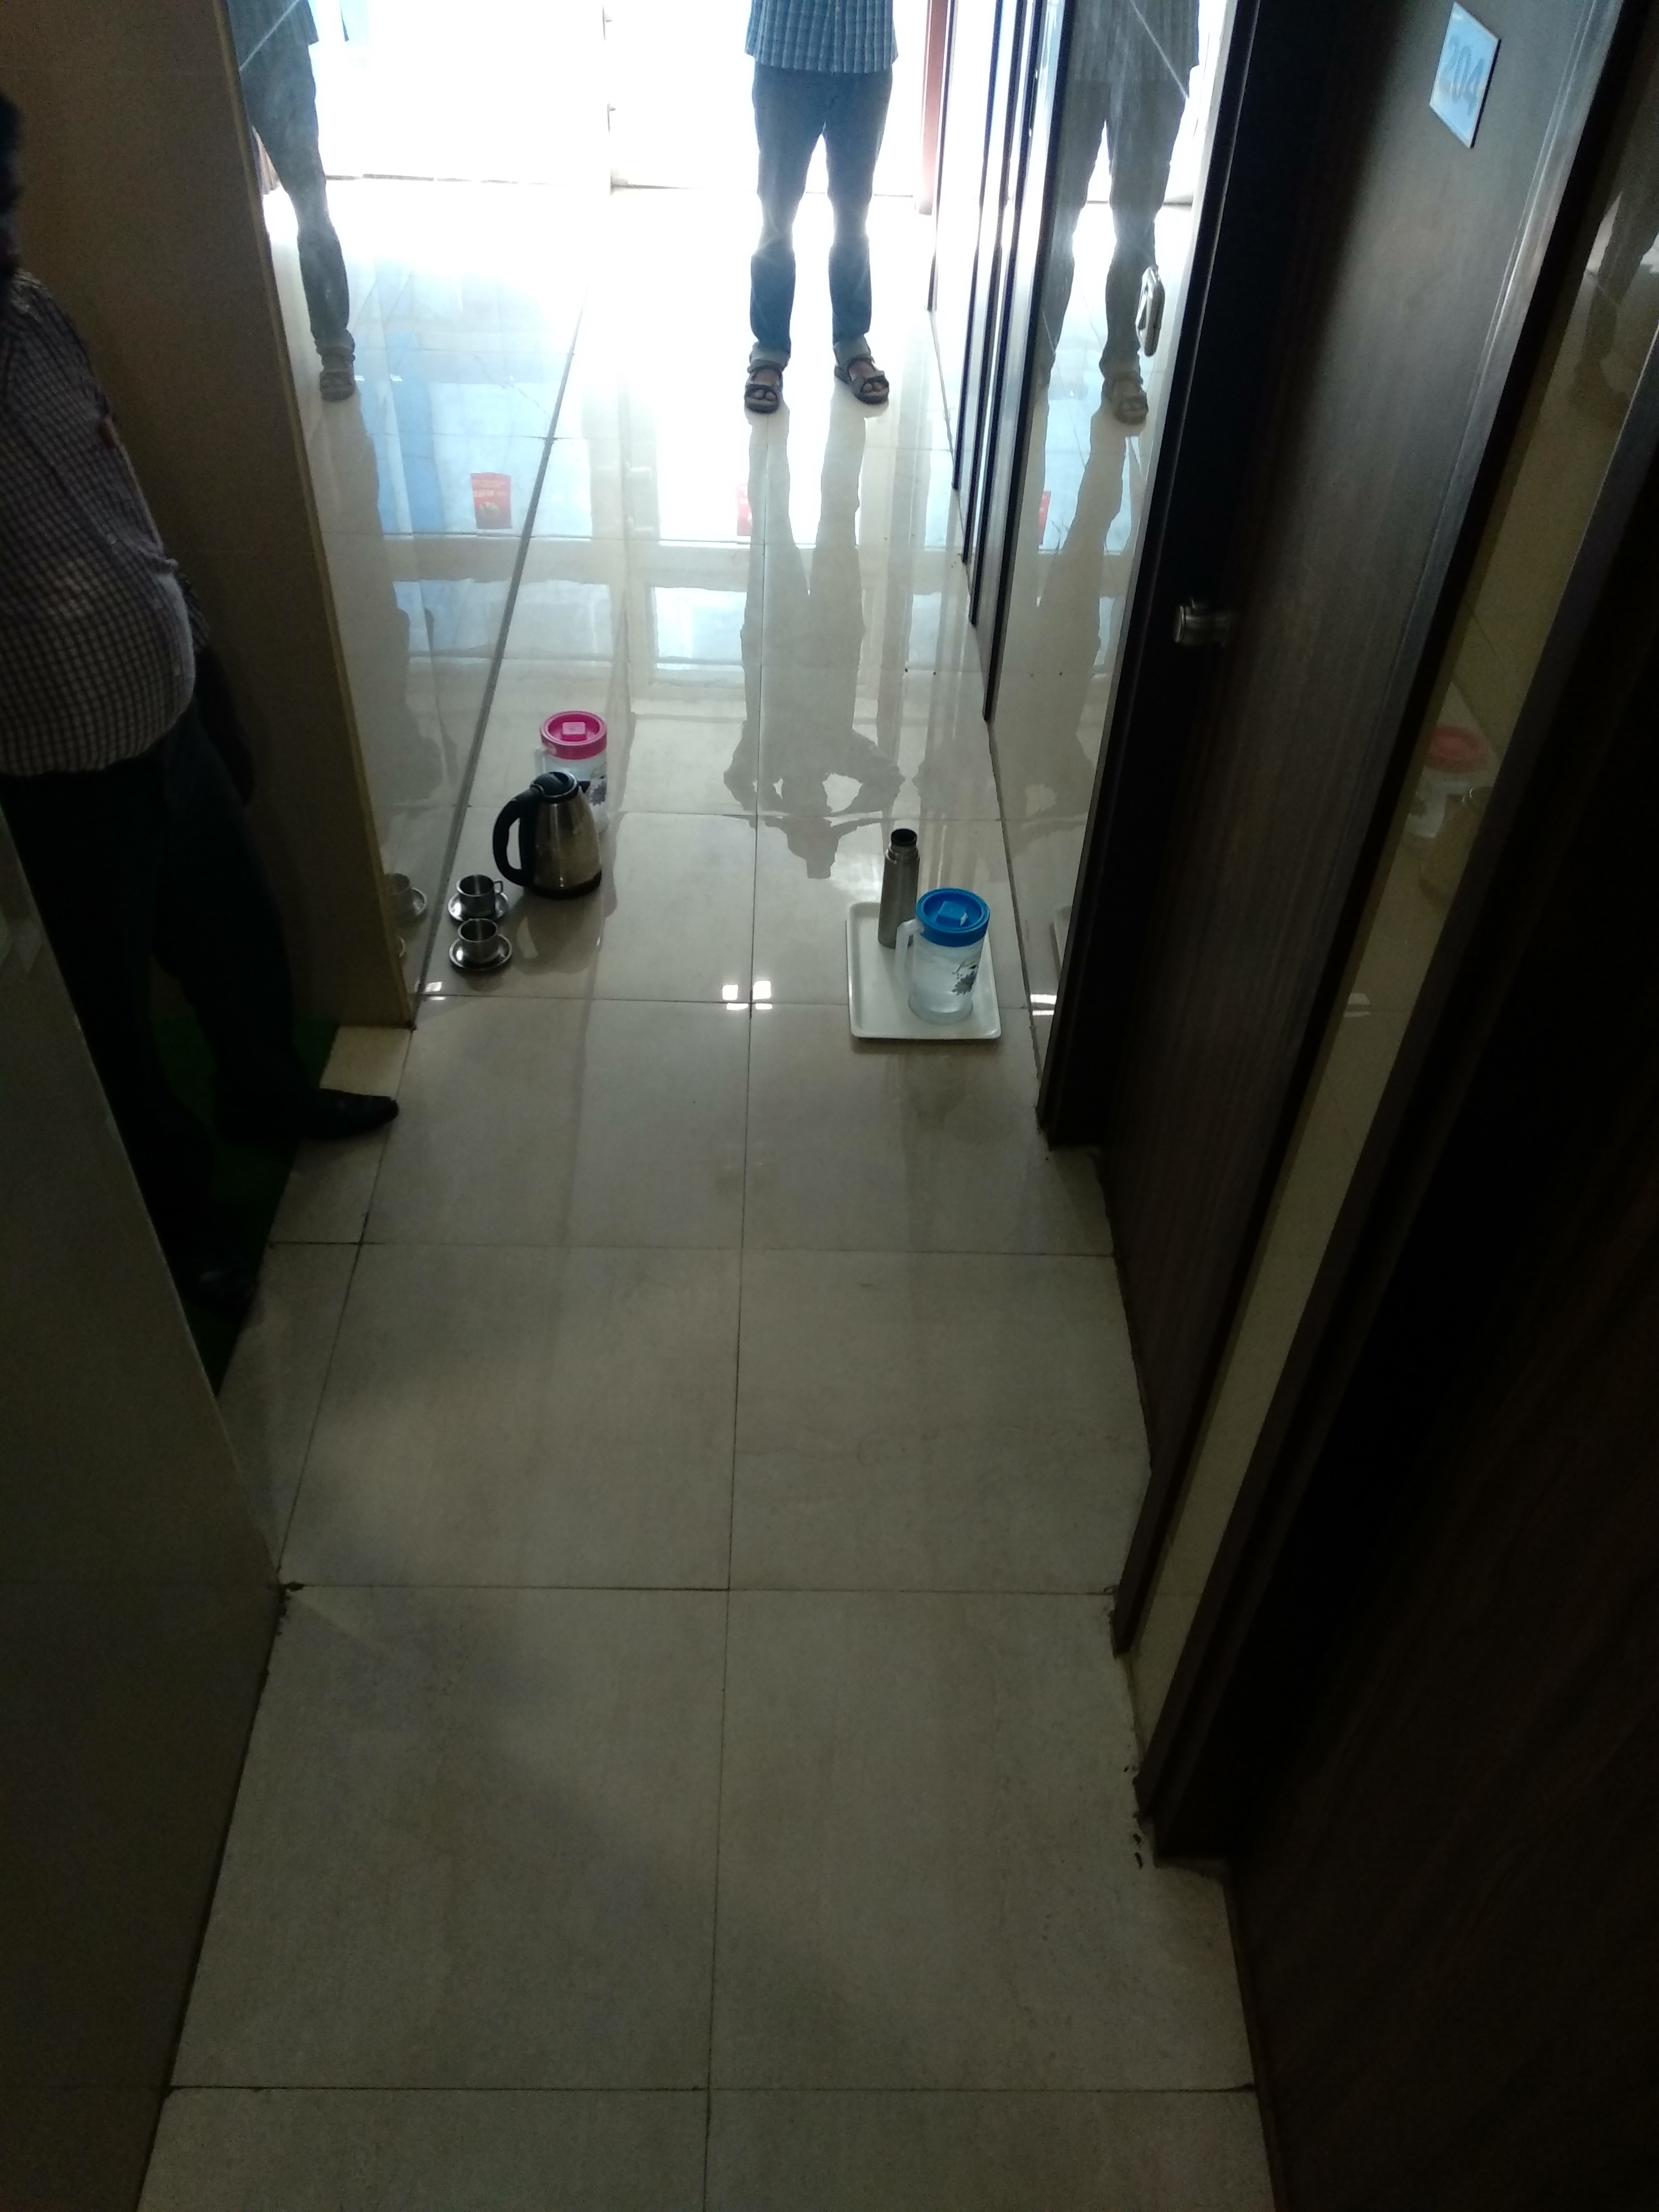CUP: (450, 916, 514, 972), (448, 869, 512, 918)
FLASK: (877, 820, 920, 953)
JUG: (490, 765, 615, 897), (894, 881, 993, 1031), (535, 712, 622, 761)
